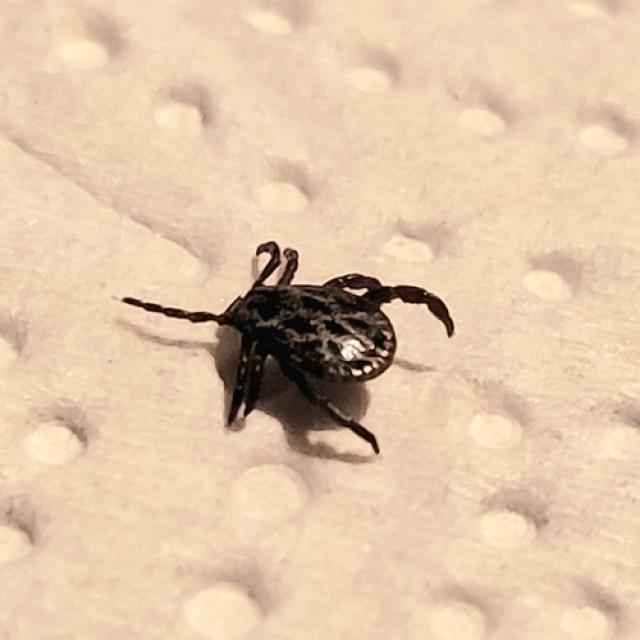Dermacentor Reticulatus-M: (124, 242, 454, 448)
